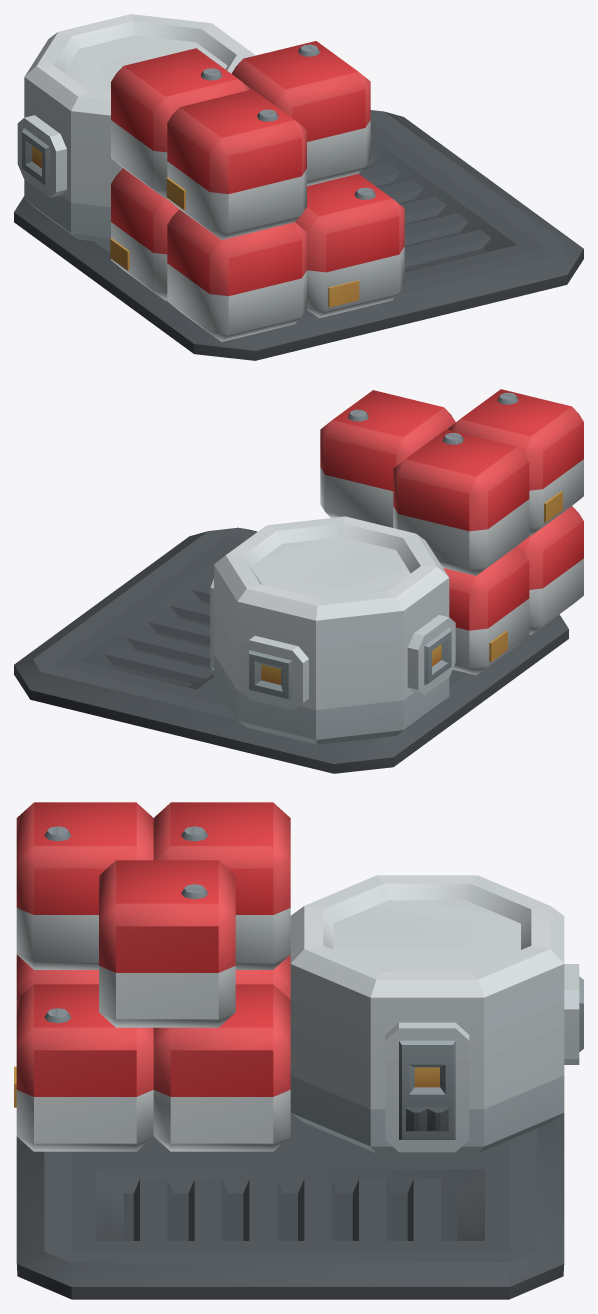
The model's file is cargodepot_a.glb.
The picture shows the model from 3 angles, top to bottom: view 1: azimuth 30°, elevation 25°; view 2: azimuth 150°, elevation 25°; view 3: azimuth 270°, elevation 25°; orthographic projection. The views are drawn at different scales.
Visible parts, largest first — view 1: cargodepot_A; view 2: cargodepot_A; view 3: cargodepot_A.
Boxes of the visible parts, bbox=[...] form: cargodepot_A: bbox=[14, 14, 583, 360]; cargodepot_A: bbox=[14, 389, 583, 773]; cargodepot_A: bbox=[14, 802, 583, 1299].
Size of the model in its own units: 2.07 by 1.12 by 2.08.
1 material, 1 textured.
